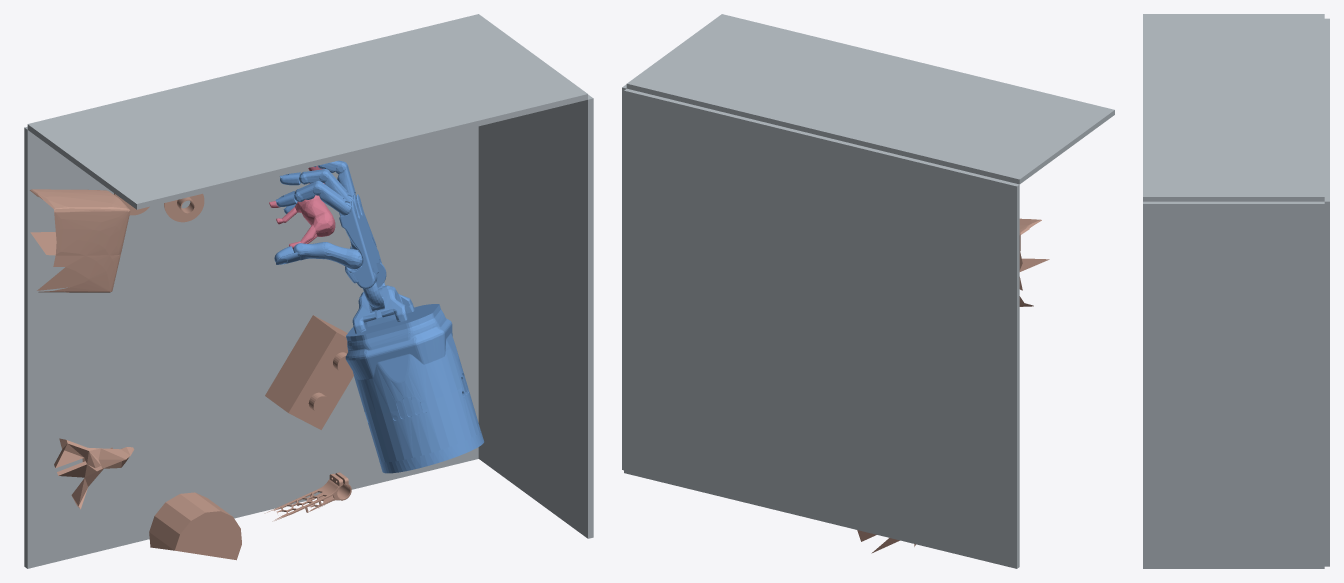
3 renders of one model, left to right at view 1: azimuth 30°, elevation 25°; view 2: azimuth 150°, elevation 25°; view 3: azimuth 270°, elevation 25°, orthographic. The views are drawn at different scales.
Visible parts, largest first — view 1: environment, hand, obstacle_005, obstacle_003, obstacle_000, obstacle_002, world, obstacle_001, obstacle_004; view 2: environment, obstacle_005; view 3: environment.
Part boxes in pixels (left/top/right/bottom): environment: left=24, top=14, right=593, bottom=568; hand: left=274, top=160, right=484, bottom=473; obstacle_005: left=30, top=189, right=130, bottom=292; obstacle_003: left=265, top=315, right=353, bottom=429; obstacle_000: left=149, top=492, right=241, bottom=560; obstacle_002: left=54, top=438, right=134, bottom=509; world: left=269, top=166, right=335, bottom=249; obstacle_001: left=264, top=472, right=351, bottom=521; obstacle_004: left=114, top=193, right=204, bottom=222; environment: left=622, top=14, right=1114, bottom=568; obstacle_005: left=1019, top=218, right=1049, bottom=306; environment: left=1143, top=14, right=1329, bottom=568.
Size of the model in its own units: 0.6955 by 0.6626 by 0.2859.
